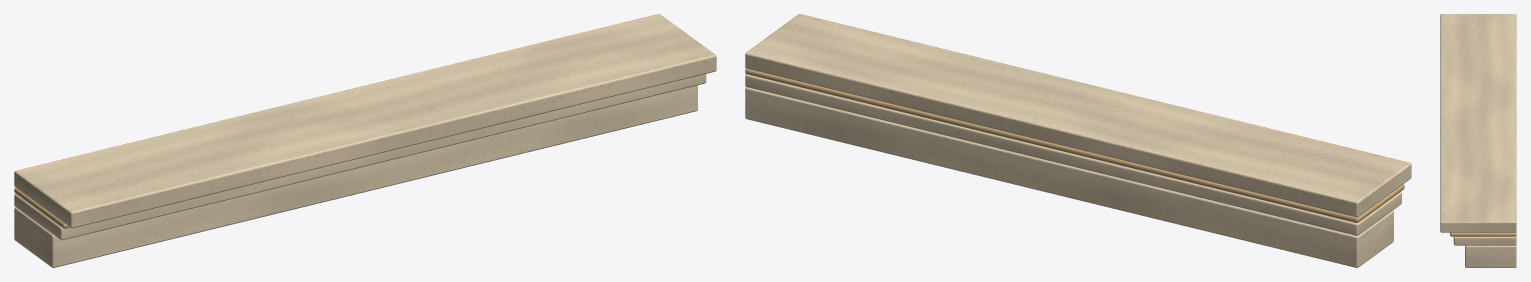
The model's file is cornice-course.glb.
3 renders of one model, left to right at view 1: azimuth 30°, elevation 25°; view 2: azimuth 150°, elevation 25°; view 3: azimuth 270°, elevation 25°, orthographic. The views are drawn at different scales.
Visible parts, largest first — view 1: Joinery.070; view 2: Joinery.070; view 3: Joinery.070.
Boxes of the visible parts, left/top/right/bottom form: Joinery.070: left=14, top=14, right=716, bottom=267; Joinery.070: left=745, top=14, right=1411, bottom=267; Joinery.070: left=1440, top=14, right=1516, bottom=267.
Bounding box in the file's own units: 4 × 0.415 × 0.62.
Materials: 2 (1 with a texture image).
